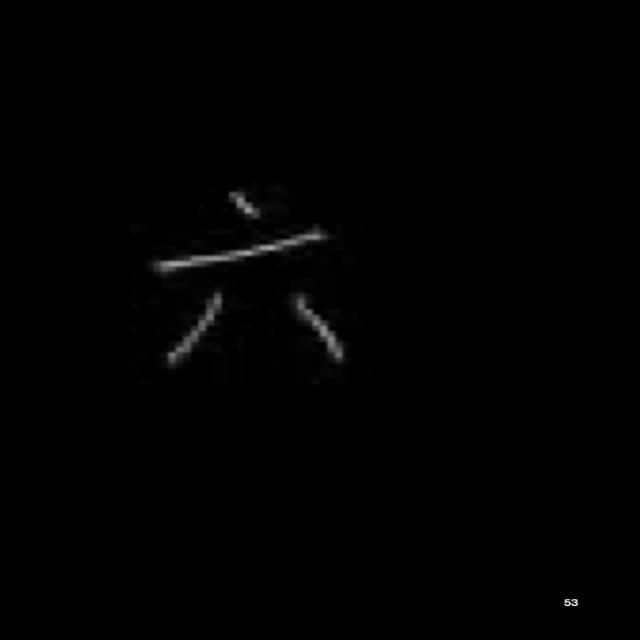6 -six-: (129, 184, 370, 378)
